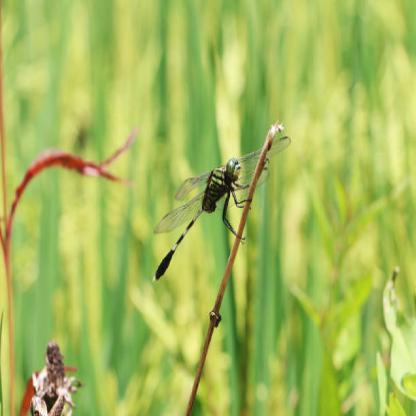sawfly: (150, 127, 292, 291)
